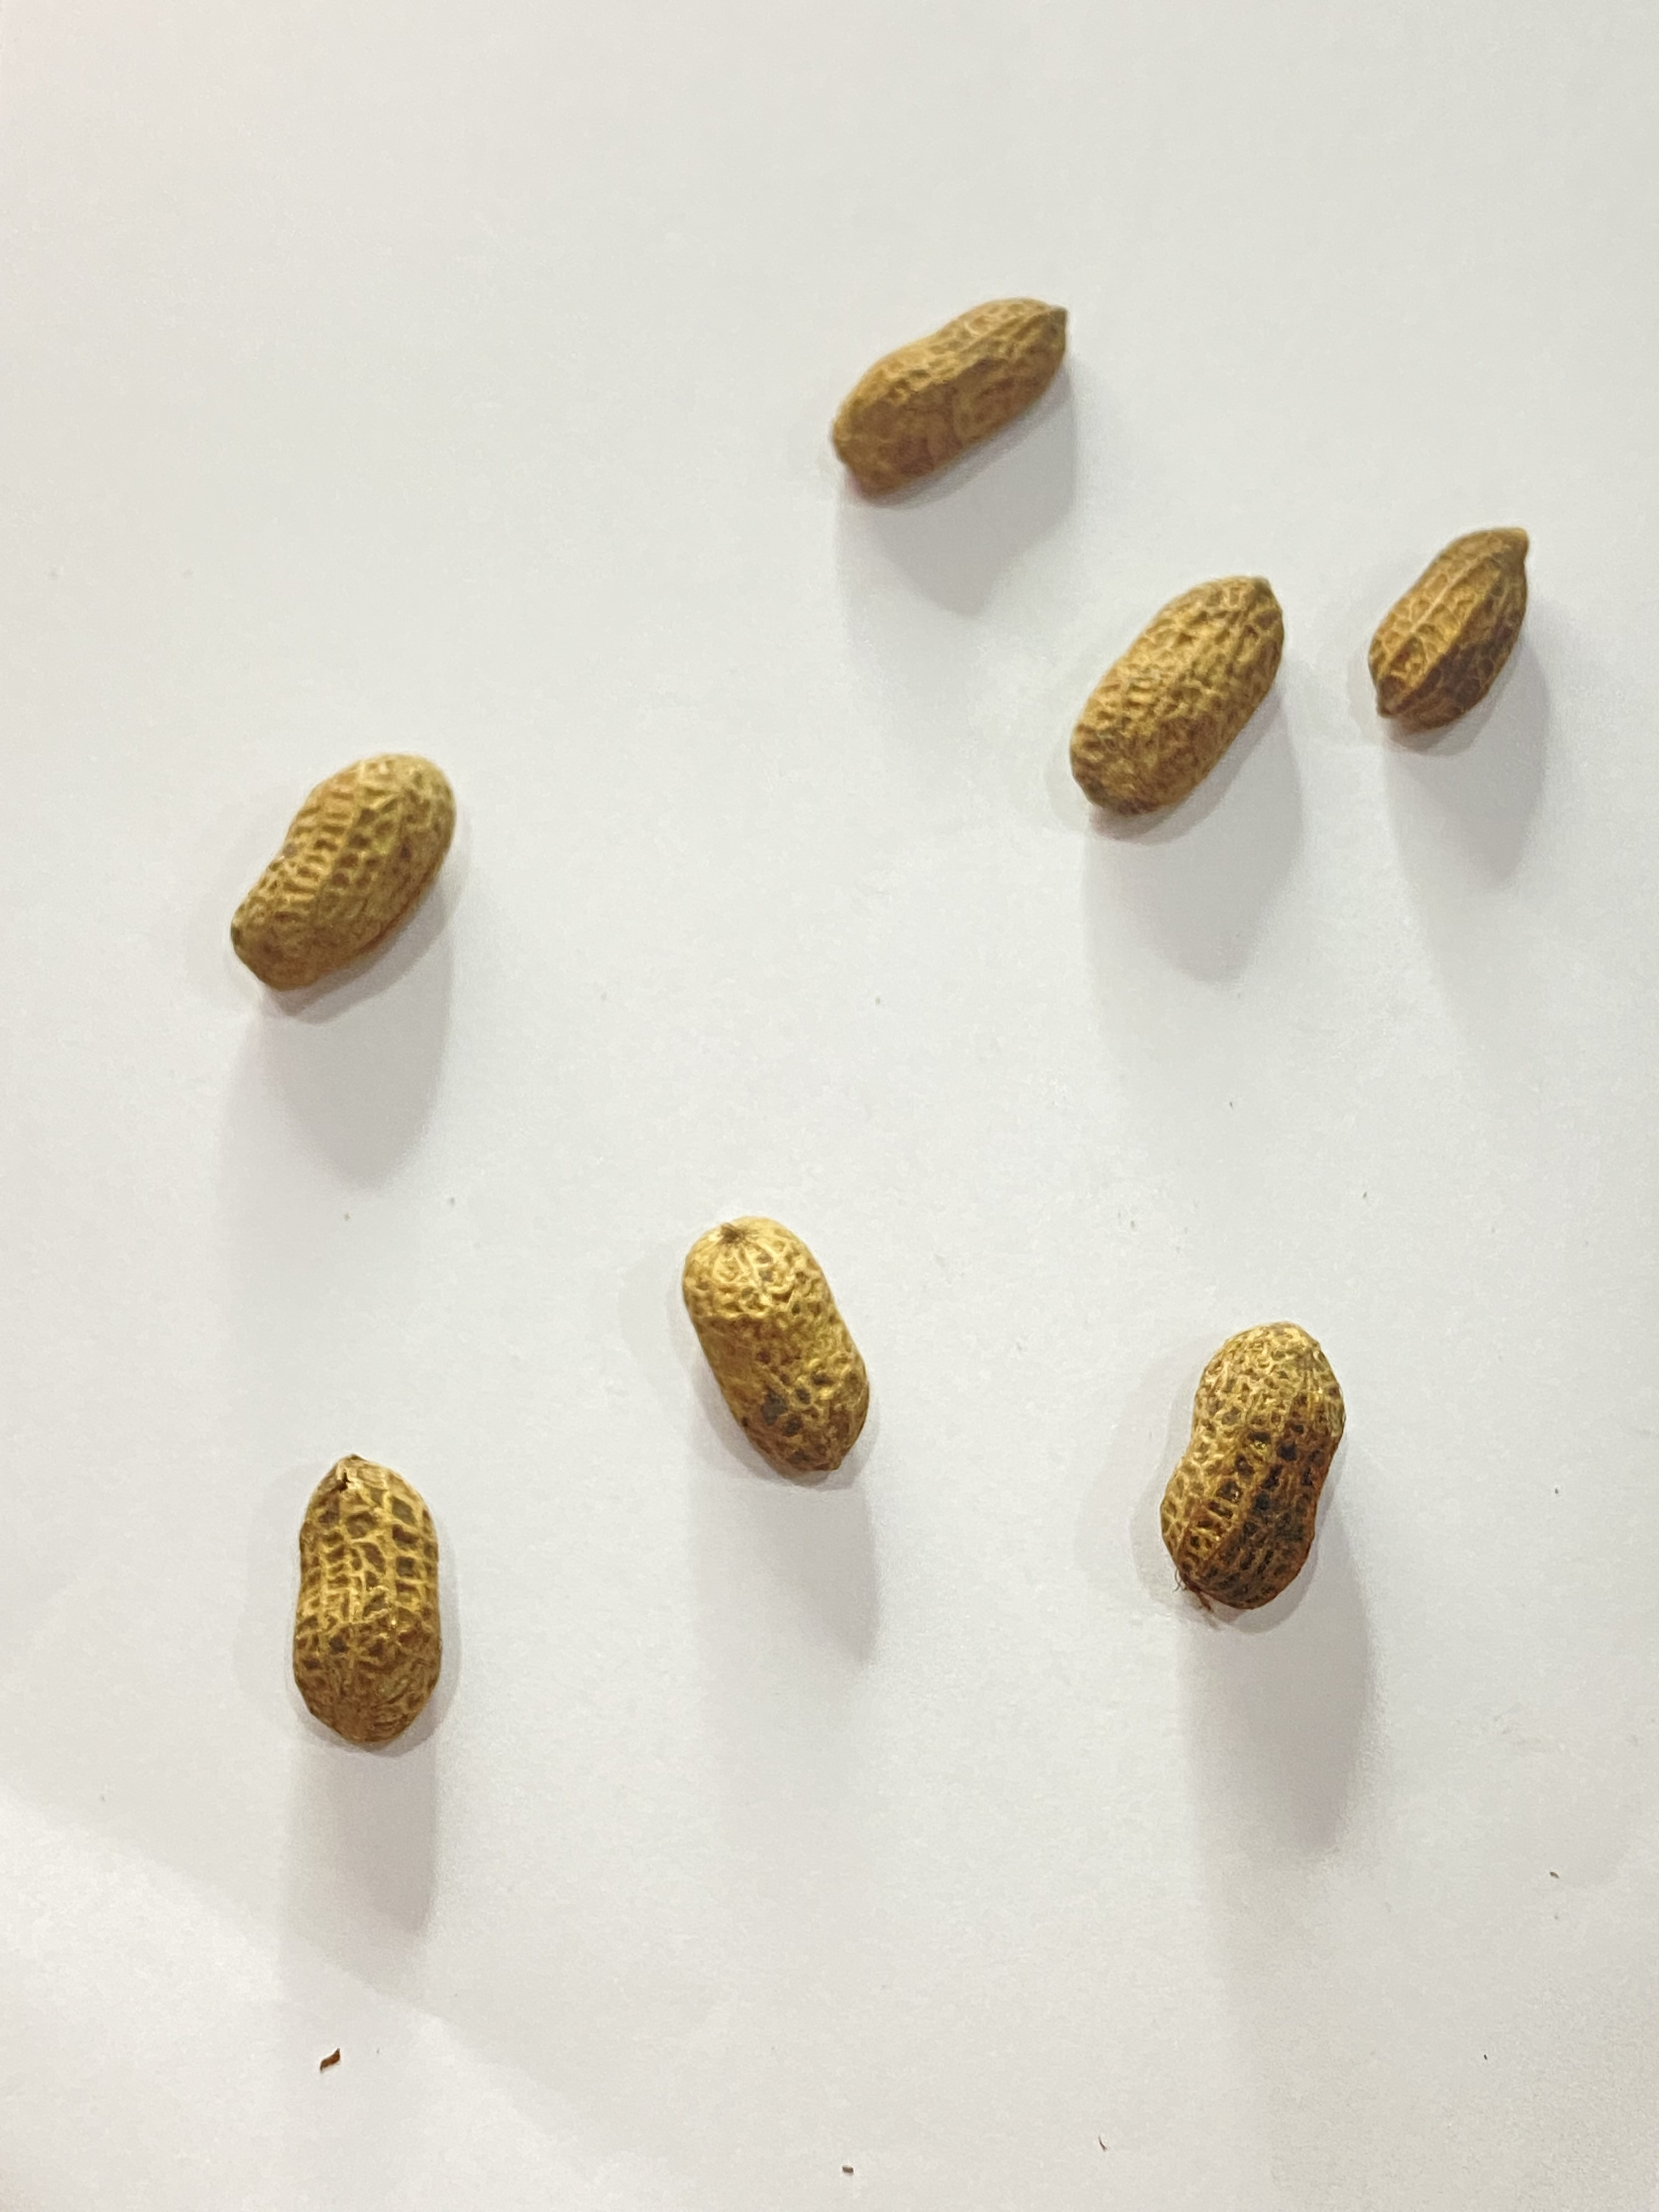kacang1: (153, 747, 514, 1003), (1359, 503, 1575, 735)
kacang2: (1051, 1270, 1459, 1648), (204, 1446, 516, 1761), (647, 1181, 938, 1514), (1009, 571, 1330, 831), (786, 275, 1112, 523)
